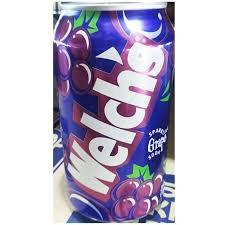welchs_grape: (47, 0, 177, 224)
